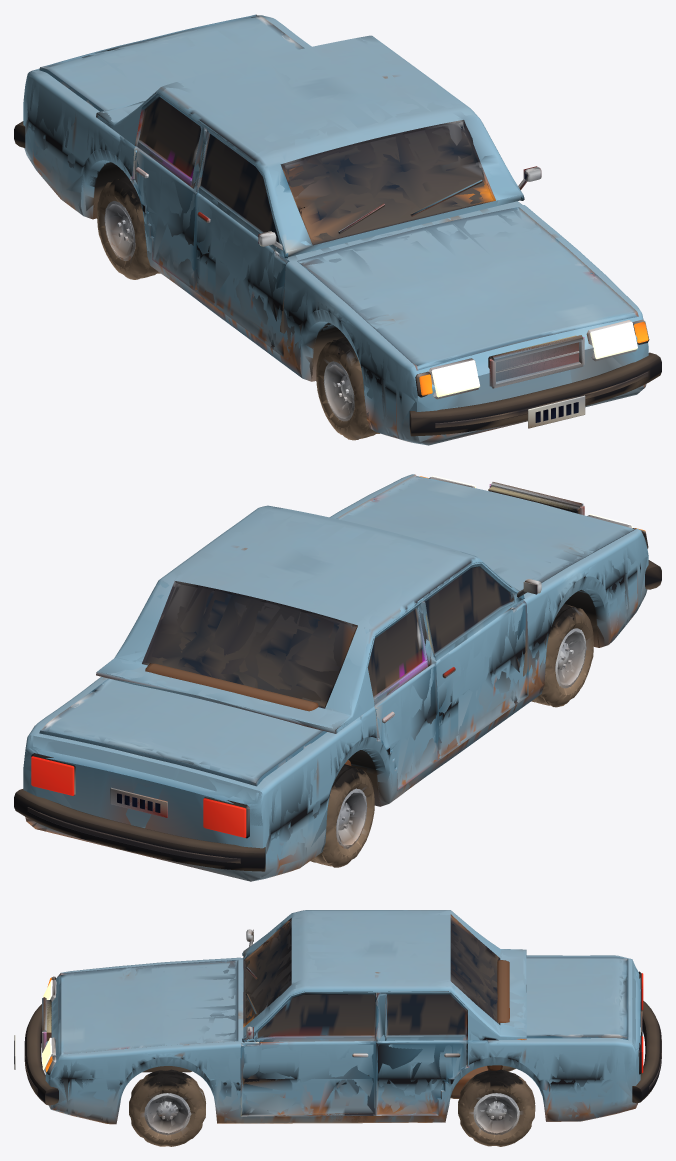
Rendered from Sedan.fbx.
3 views of the same model, one above another, from view 1: azimuth 30°, elevation 25°; view 2: azimuth 150°, elevation 25°; view 3: azimuth 270°, elevation 25° (orthographic). The views are drawn at different scales.
Visible parts, largest first — view 1: Body, Body__L2, Body__L1, Hood, Hood__L2, Hood__L1, Glass__L2, Bumper_F, Glass, Trunk, Door_R, Glass__L1 (+17 smaller); view 2: Body, Body__L2, Body__L1, Trunk, Hood, Glass__L2, Hood__L2, Bumper_R, Glass, Trunk__L2, Door_R, Hood__L1 (+18 smaller); view 3: Body, Body__L2, Body__L1, Hood, Hood__L2, Door_L__L2, Door_L, Hood__L1, Door_L__Glass, Trunk, Door_L__L1, DoorRear_L__L2 (+18 smaller).
Part boxes in pixels (x1,y1,x2,y2): Body: (23,16,646,442); Body__L2: (24,15,648,445); Body__L1: (23,15,648,445); Hood: (297,207,638,370); Hood__L2: (298,207,636,370); Hood__L1: (299,207,635,367); Glass__L2: (281,121,495,244); Bumper_F: (409,352,661,436); Glass: (280,120,494,245); Trunk: (40,14,295,111); Door_R: (193,130,288,356); Glass__L1: (287,123,491,244); Body: (23,474,648,881); Body__L2: (23,474,648,881); Body__L1: (23,474,648,880); Trunk: (40,680,323,786); Hood: (336,476,626,590); Glass__L2: (143,581,356,708); Hood__L2: (346,474,636,582); Bumper_R: (14,789,265,871); Glass: (142,581,357,708); Trunk__L2: (43,678,326,783); Door_R: (425,562,541,758); Hood__L1: (339,476,630,583); Body: (42,910,642,1124); Body__L2: (45,910,640,1123); Body__L1: (42,910,642,1123); Hood: (58,960,238,1056); Hood__L2: (58,960,238,1054); Door_L__L2: (240,991,378,1116); Door_L: (240,991,378,1116); Hood__L1: (58,960,238,1056); Door_L__Glass: (253,994,374,1038); Trunk: (526,956,628,1039); Door_L__L1: (240,991,378,1116); DoorRear_L__L2: (375,991,468,1115).
Bounding box in the file's own units: 1.97 × 1.43 × 5.22.
